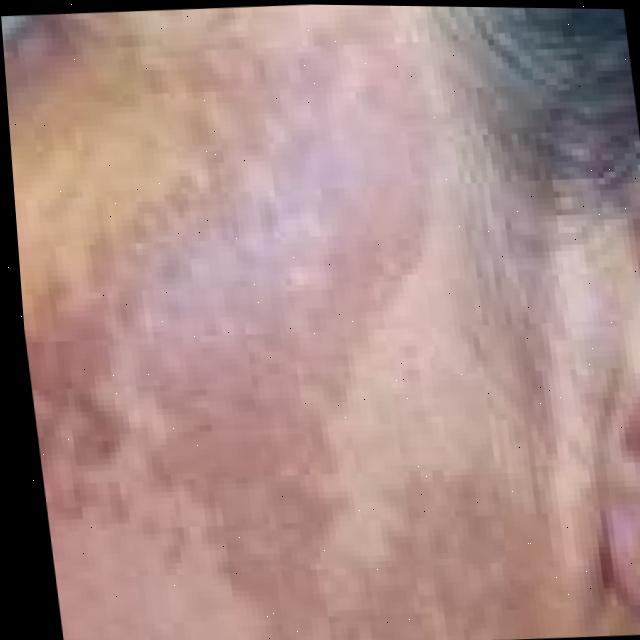Melasma: (1, 18, 587, 640)
